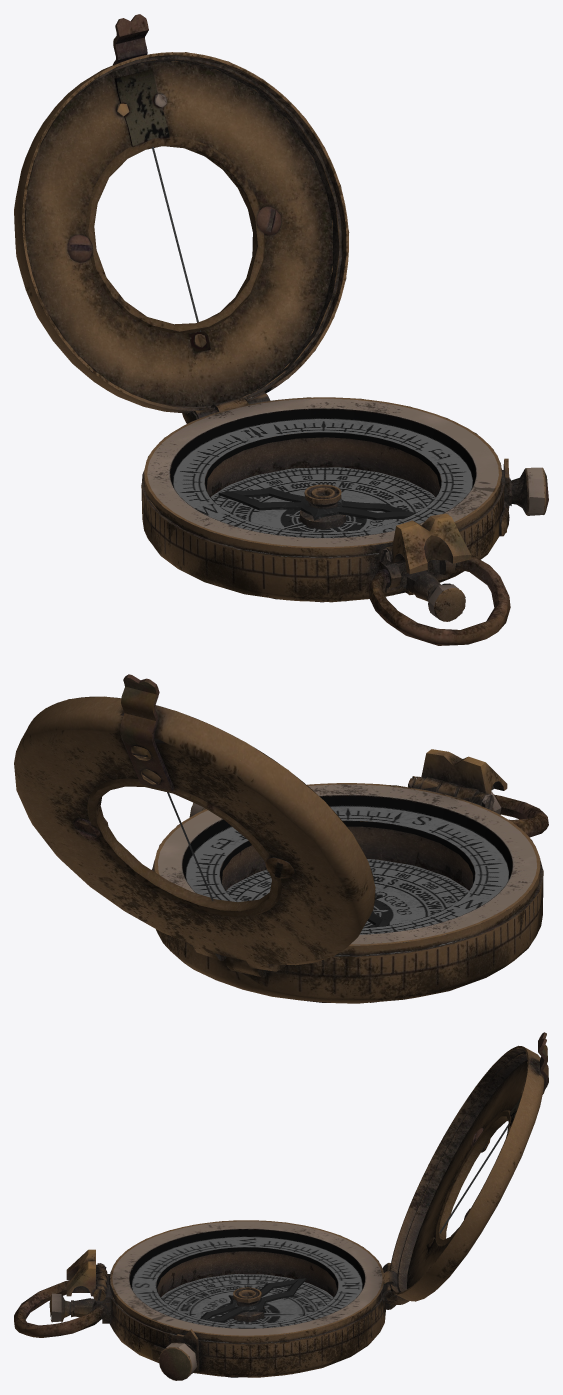
File: seadogs_compass.glb
The picture shows the model from 3 angles, top to bottom: view 1: azimuth 30°, elevation 25°; view 2: azimuth 150°, elevation 25°; view 3: azimuth 270°, elevation 25°; orthographic projection. The views are drawn at different scales.
Visible parts, largest first — view 1: seadogs_compass_lid, seadogs_compass, seadogs_compass_needle; view 2: seadogs_compass_lid, seadogs_compass; view 3: seadogs_compass, seadogs_compass_lid, seadogs_compass_needle.
Part boxes in pixels (bbox=[...]): seadogs_compass_lid: bbox=[14, 14, 349, 423]; seadogs_compass: bbox=[141, 397, 548, 645]; seadogs_compass_needle: bbox=[218, 488, 414, 520]; seadogs_compass_lid: bbox=[14, 674, 375, 971]; seadogs_compass: bbox=[152, 749, 548, 1003]; seadogs_compass: bbox=[14, 1220, 397, 1380]; seadogs_compass_lid: bbox=[381, 1032, 548, 1305]; seadogs_compass_needle: bbox=[200, 1278, 306, 1322].
Bounding box in the file's own units: 0.0814 × 0.0866 × 0.144.
Materials: 1 (1 with a texture image).
